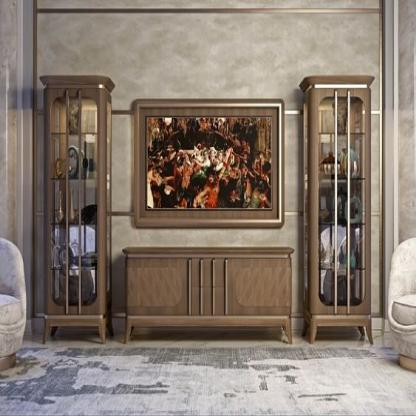Cupboard: (38, 77, 115, 345), (300, 75, 375, 346)
Curtains: (0, 344, 416, 416)
